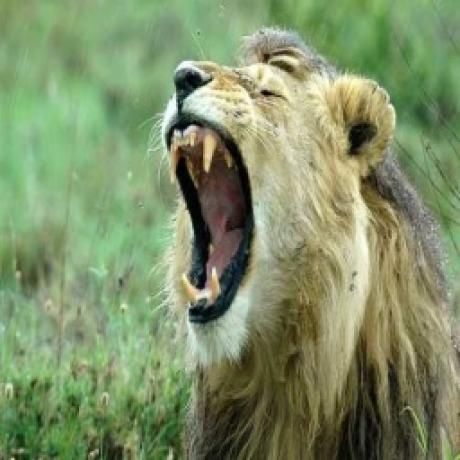Lion: (146, 25, 460, 460)
